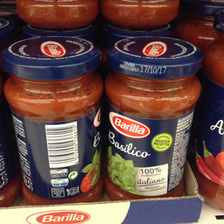tomato_sauce: (3, 35, 104, 205), (104, 36, 201, 199)
